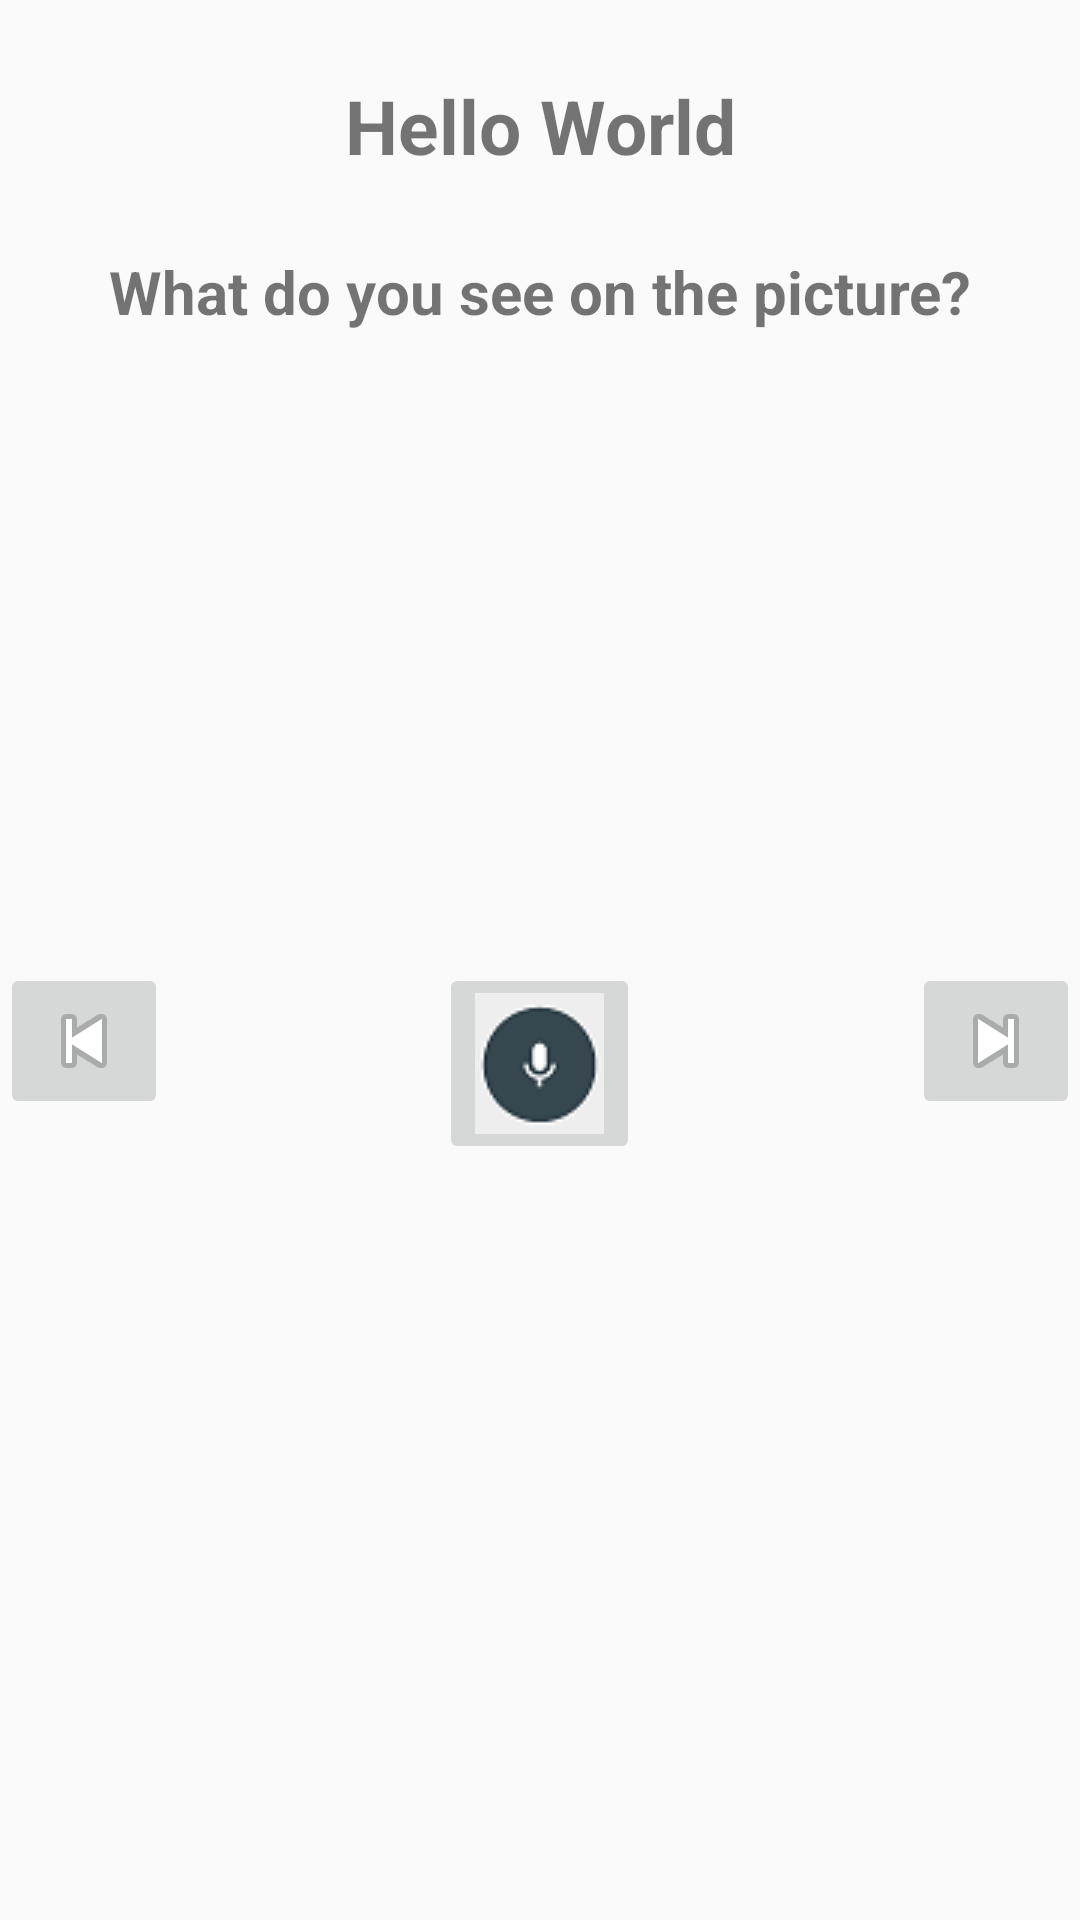

Screen size 1080w x 1920h. Icon name, then its box in pixels as box=[x1, y1, x2, y2]:
mic: box=[451, 981, 628, 1146]
next: box=[924, 981, 1068, 1101]
previous: box=[12, 981, 156, 1101]
